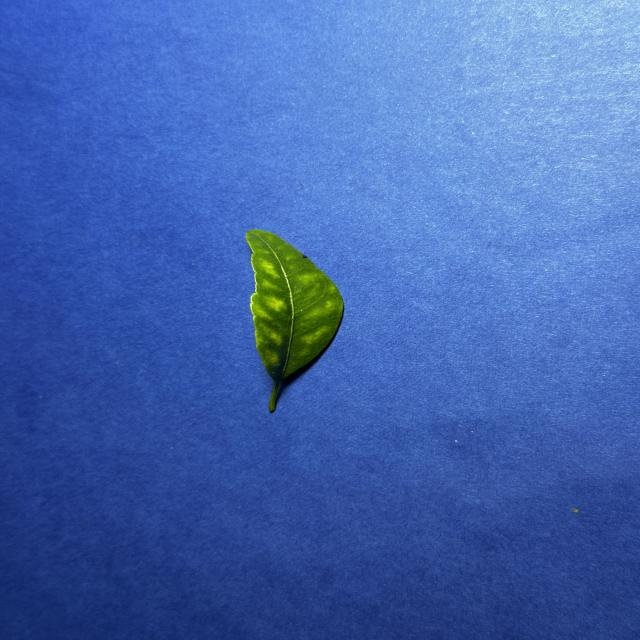greening: (246, 230, 343, 412)
